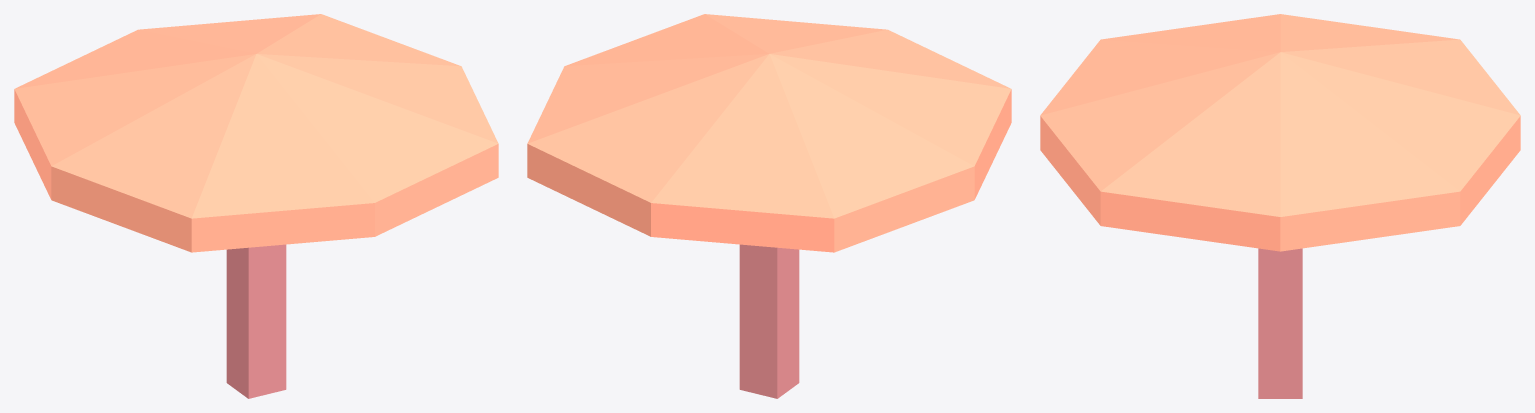
File: umbrella00.fbx
The picture shows the model from 3 angles, left to right: view 1: azimuth 30°, elevation 25°; view 2: azimuth 150°, elevation 25°; view 3: azimuth 270°, elevation 25°; orthographic projection.
Parts seen in each view (by area): view 1: beach_umbrella, beach_umbrella.001; view 2: beach_umbrella, beach_umbrella.001; view 3: beach_umbrella, beach_umbrella.001.
Part boxes in pixels (x1,y1,x2,y2): beach_umbrella: (14,14,498,252); beach_umbrella.001: (226,244,286,398); beach_umbrella: (527,14,1011,252); beach_umbrella.001: (739,244,799,398); beach_umbrella: (1040,14,1520,251); beach_umbrella.001: (1258,248,1302,398).
Size of the model in its own units: 2.02 by 1.56 by 2.02.
